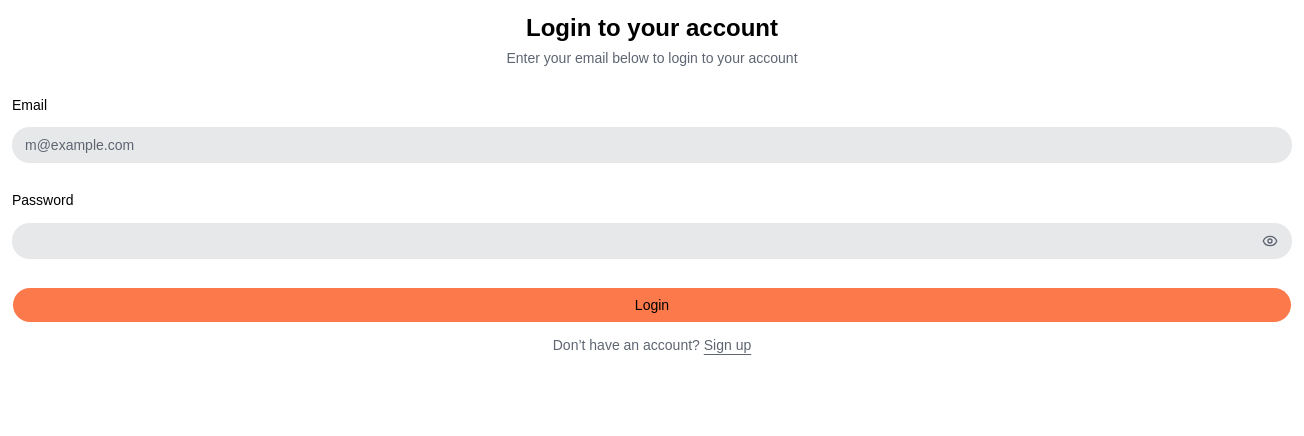
Test: authentication forms › blocks invalid login input before making a request
This screenshot has width=1304, height=436.
In the field labelled "Email": (652, 145) top-left (12, 127), bottom-right (1292, 163), type "invalid"
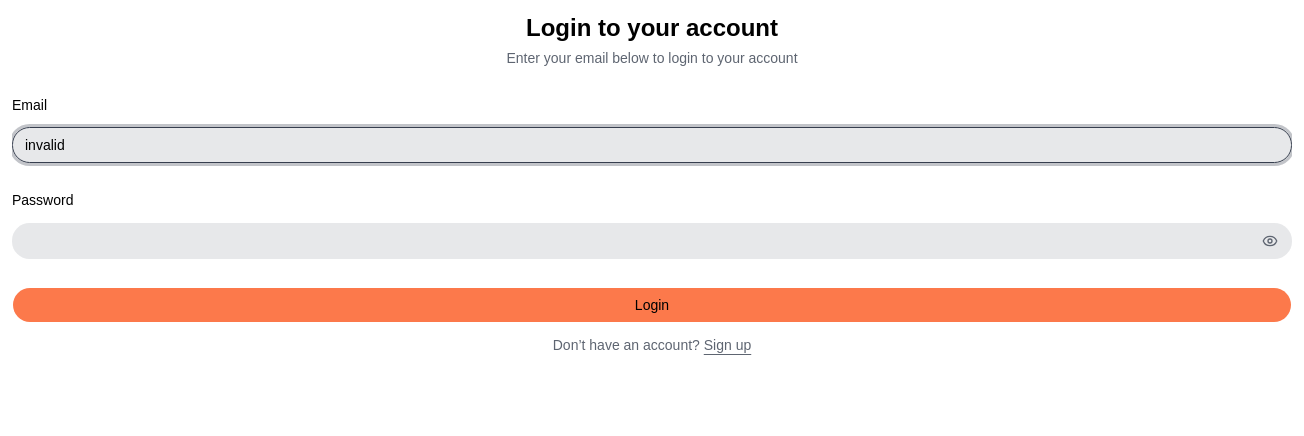
Click the button "Login": (652, 304) top-left (12, 286), bottom-right (1292, 322)
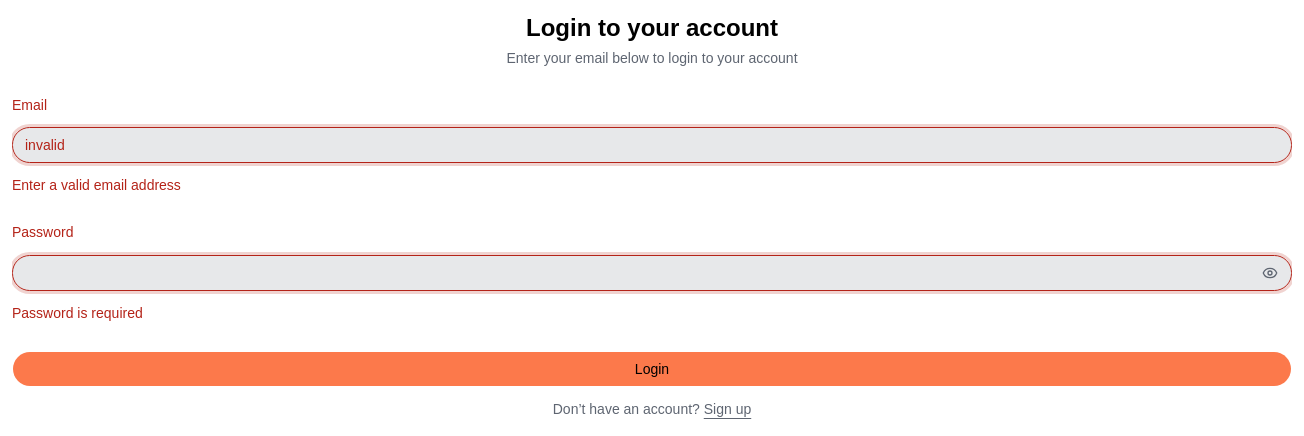
Check: the text "Enter a valid email address" is shown, box top-left (12, 177), bottom-right (181, 193)
Check: the text "Password is required" is shown, box top-left (12, 304), bottom-right (143, 320)
